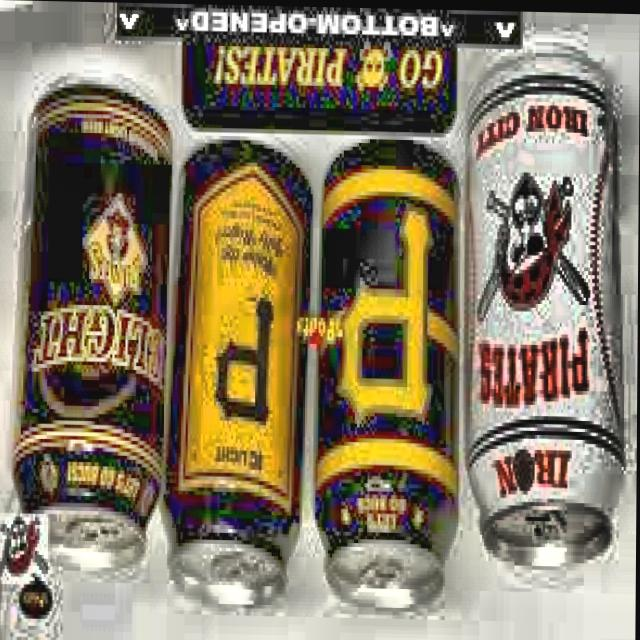can: (459, 43, 629, 575), (8, 75, 176, 583), (155, 131, 317, 608), (312, 132, 465, 612)
